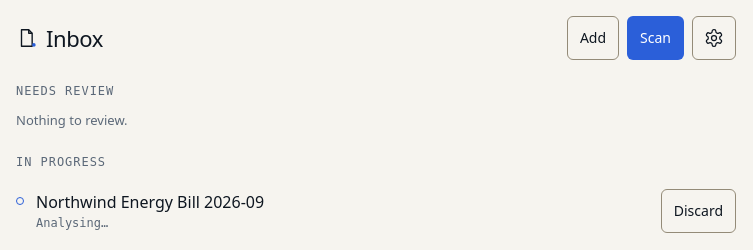
it: InboxScreen › shows a requested discard as discarding and hides the button
Click the button "Discard": (698, 211) [661, 189, 736, 233]
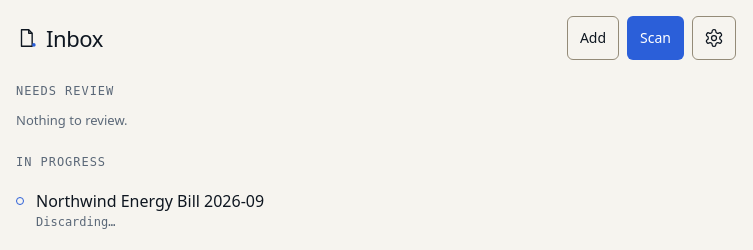
Expected: the text "Discarding…" is shown, [36, 215, 116, 229]
